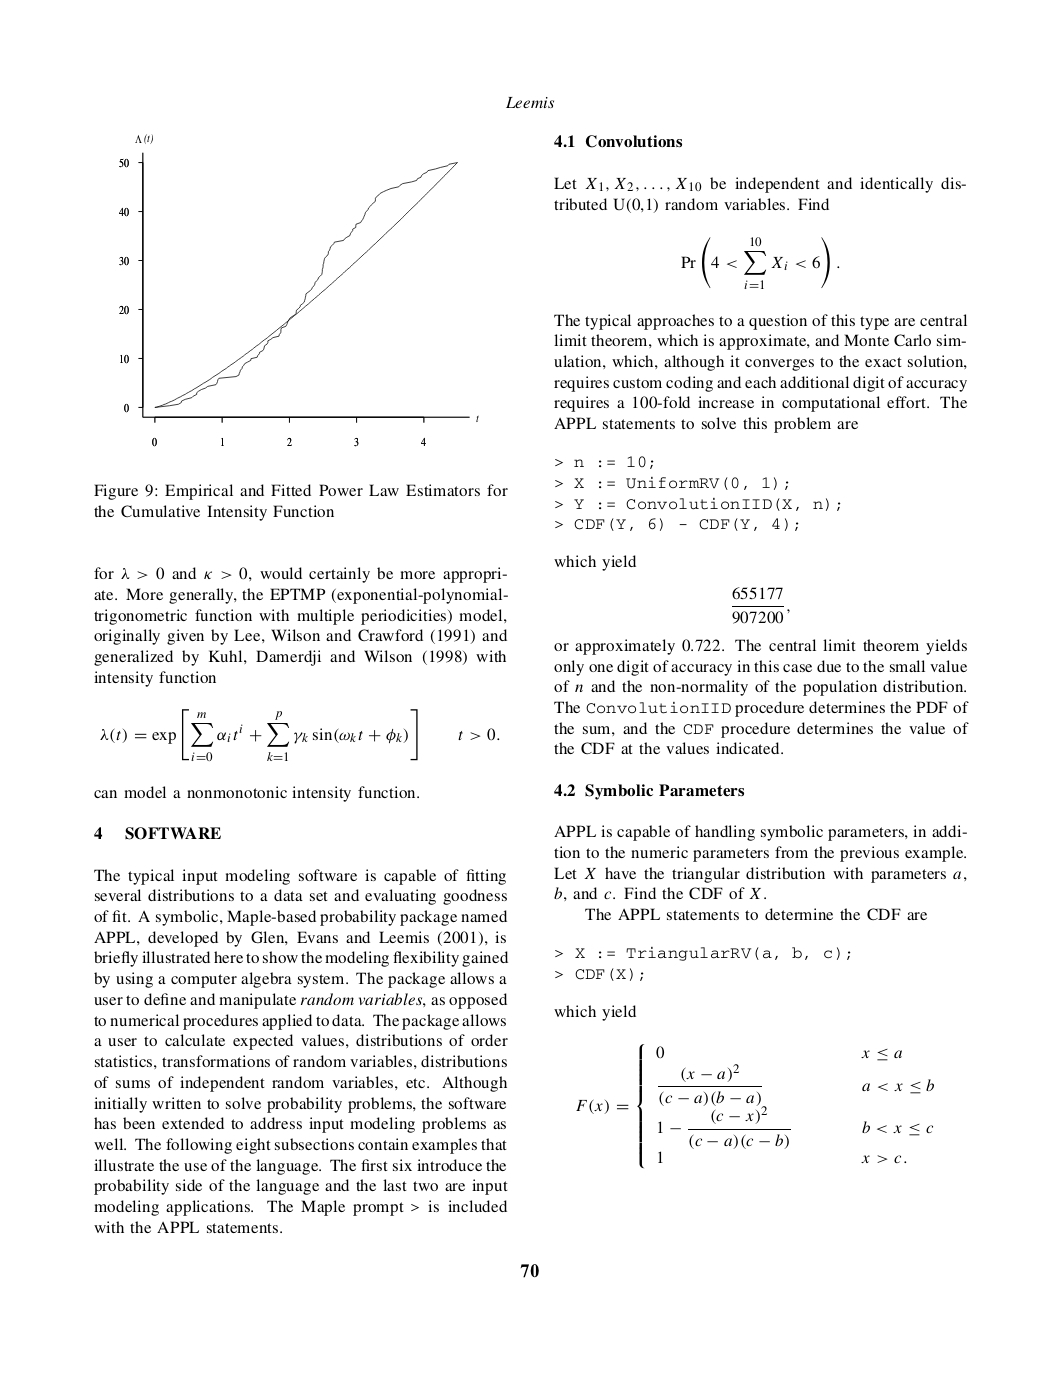figure: (119, 150, 478, 423)
formula: (576, 1043, 933, 1169), (100, 708, 499, 762), (681, 236, 839, 289)
